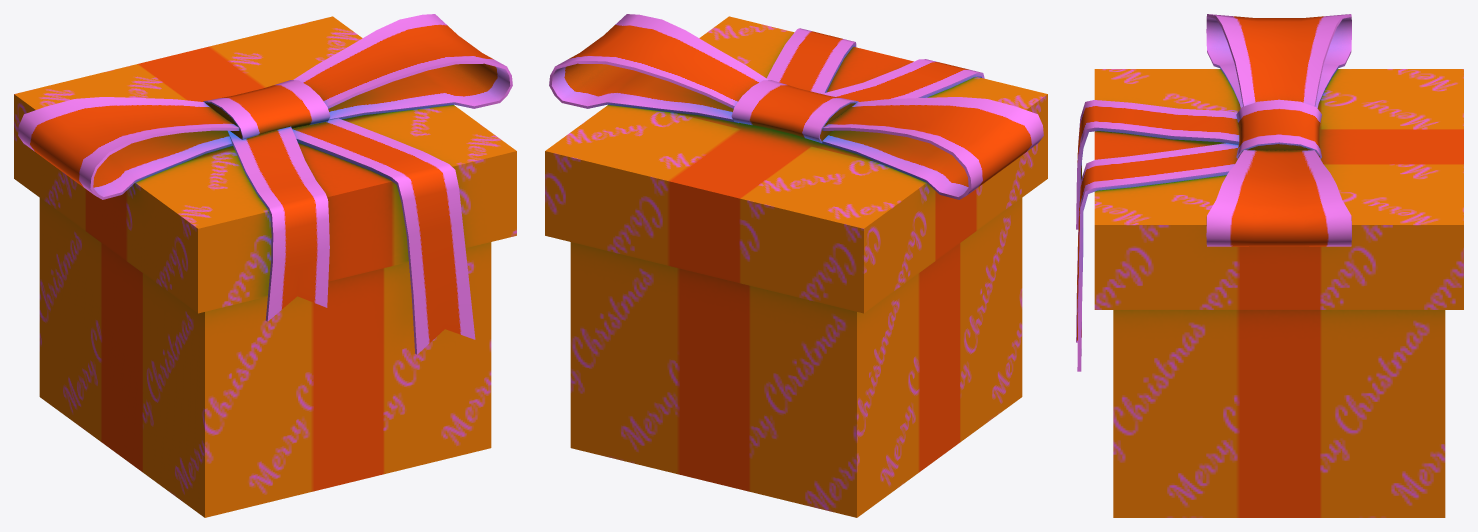
File: giftbox 22.fbx
3 renders of one model, left to right at view 1: azimuth 30°, elevation 25°; view 2: azimuth 150°, elevation 25°; view 3: azimuth 270°, elevation 25°, orthographic.
Parts seen in each view (by area): view 1: Box_low, Bow2_low, Bow3_low, Bow1_low; view 2: Box_low, Bow2_low, Bow3_low, Bow1_low; view 3: Box_low, Bow2_low, Bow3_low, Bow1_low.
Boxes of the visible parts, left/top/right/bottom form: Box_low: left=14, top=16, right=516, bottom=517; Bow2_low: left=18, top=14, right=512, bottom=199; Bow3_low: left=227, top=118, right=475, bottom=354; Bow1_low: left=203, top=80, right=330, bottom=139; Box_low: left=545, top=16, right=1047, bottom=517; Bow2_low: left=549, top=14, right=1043, bottom=199; Bow3_low: left=766, top=28, right=984, bottom=101; Bow1_low: left=731, top=80, right=858, bottom=143; Box_low: left=1094, top=69, right=1463, bottom=517; Bow2_low: left=1206, top=14, right=1351, bottom=246; Bow3_low: left=1076, top=100, right=1239, bottom=371; Bow1_low: left=1236, top=99, right=1321, bottom=158.
Size of the model in its own units: 103 by 79.4 by 81.24.
Materials: 1 (1 with a texture image).
